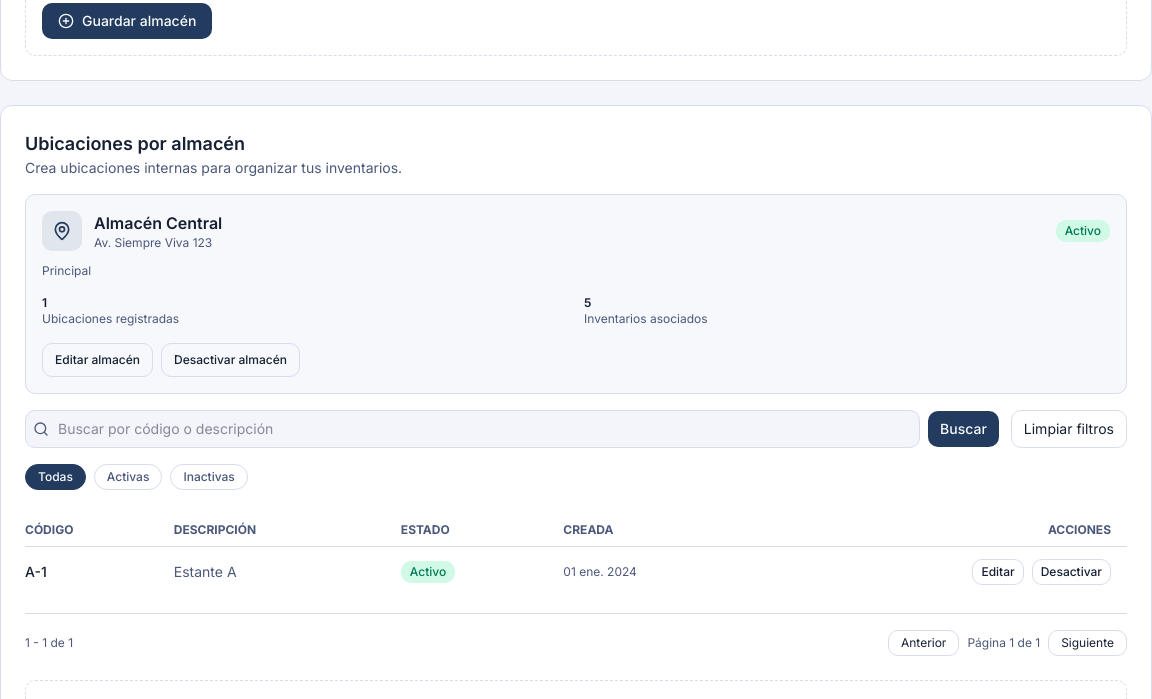
it: AlmacenesManager UI › permite editar un almacén y refresca los listados
(page scrolled)
Click the button "Editar almacén". click: click(98, 360)
box: [42,343,153,377]
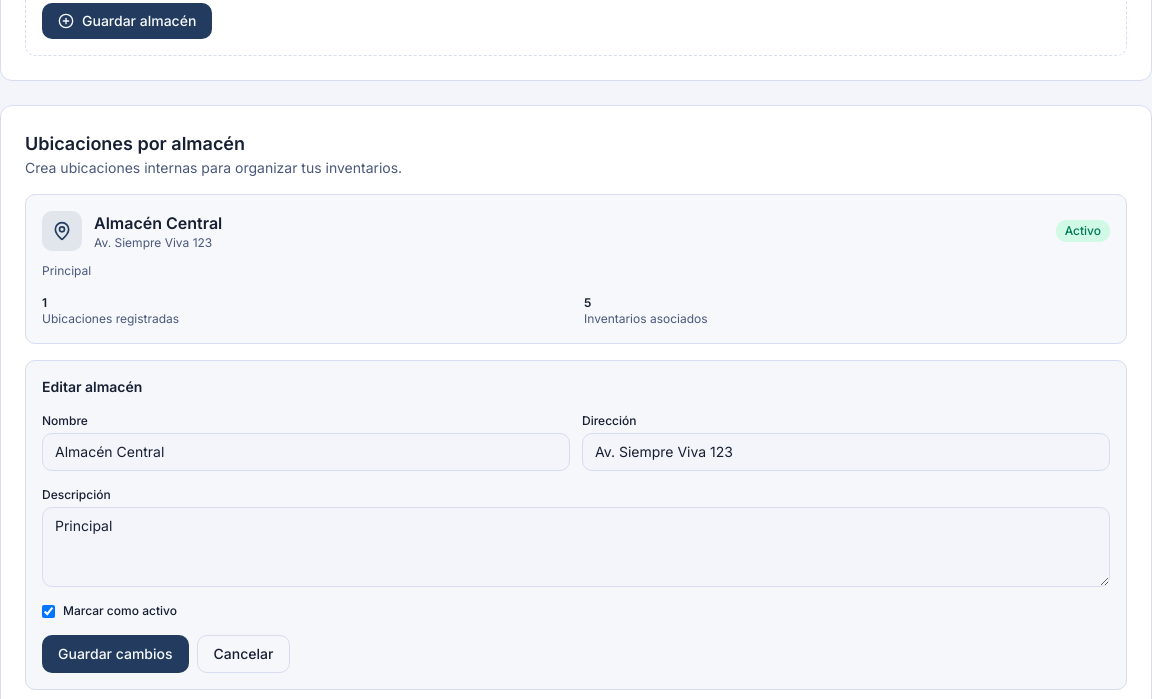
expect the text "Editar almacén" is shown: met, box [42,378,142,395]
Replace the text in the field labelled "Nombre" with "Almacén Actualizado". click: (306, 452)
box: [42,433,570,471]
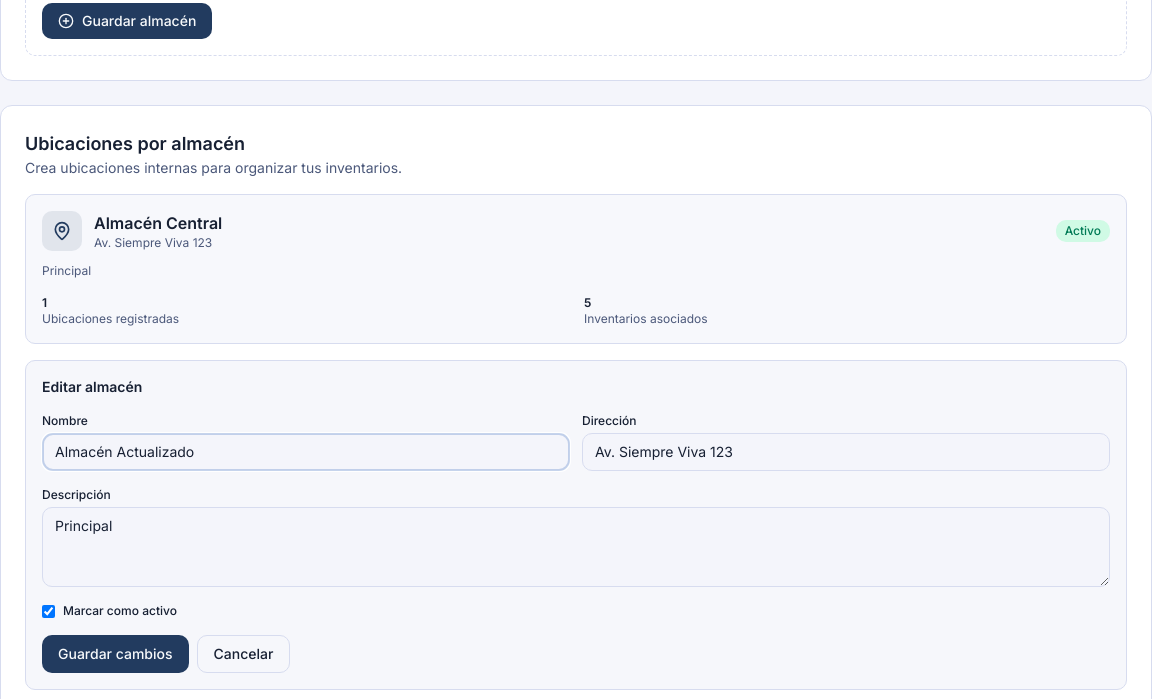
Click the button "Guardar cambios". click: click(115, 654)
box: [42,635,188,673]
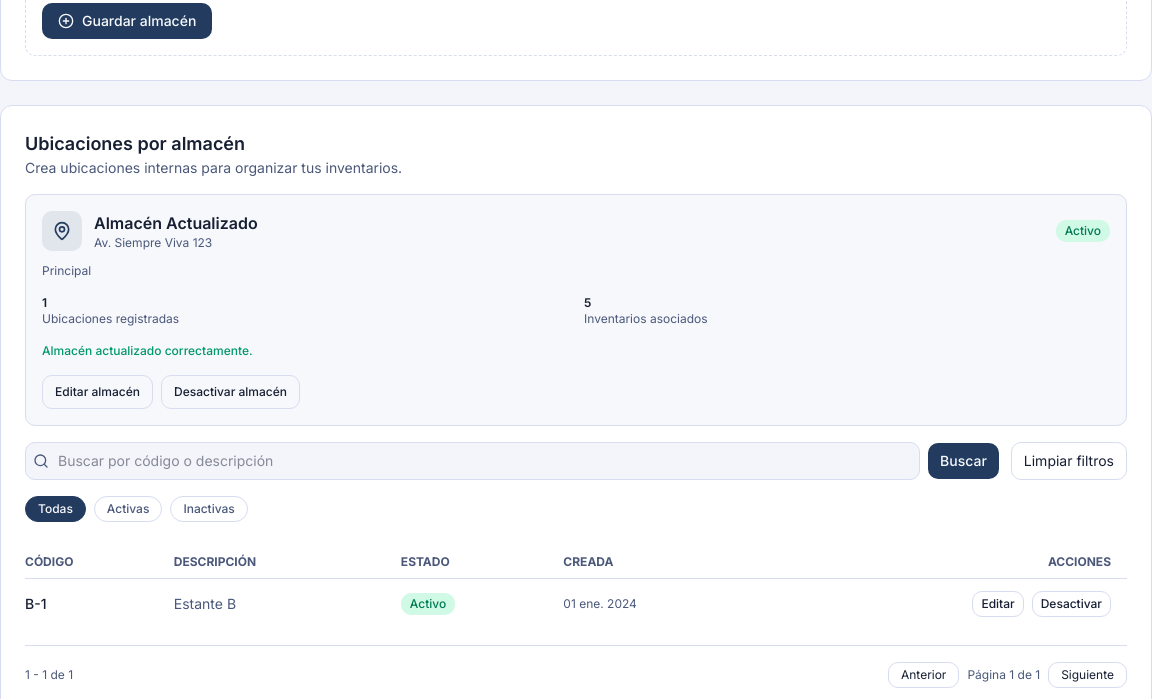
expect the text "Almacén actualizado correctamente." is shown: met, box [42,343,253,358]
expect the text "Estante B" is shown: met, box [174,578,401,629]
